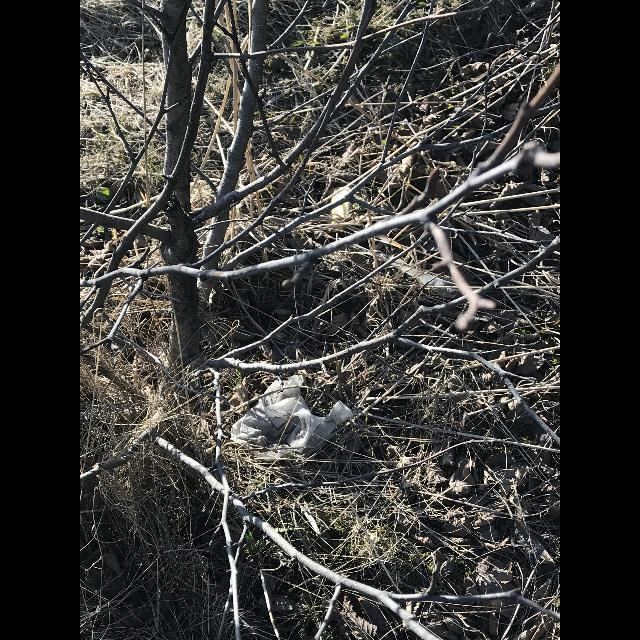Plastic: (230, 375, 354, 461)
